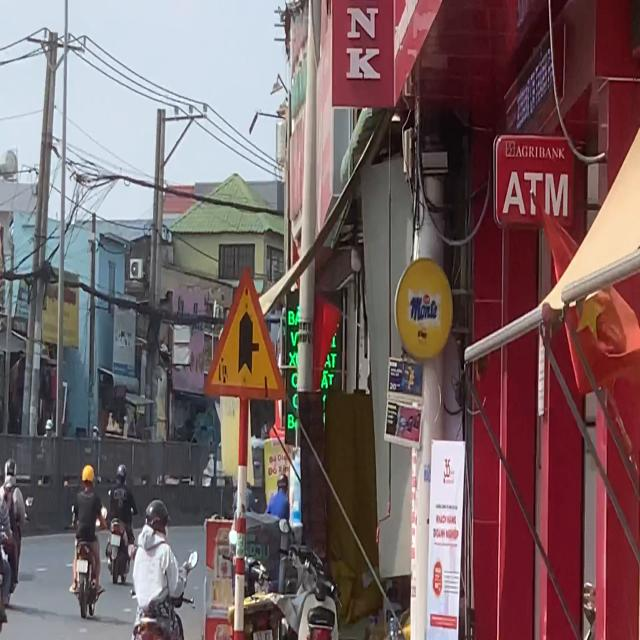Giao voi duong khong uu tien: (201, 262, 289, 406)
